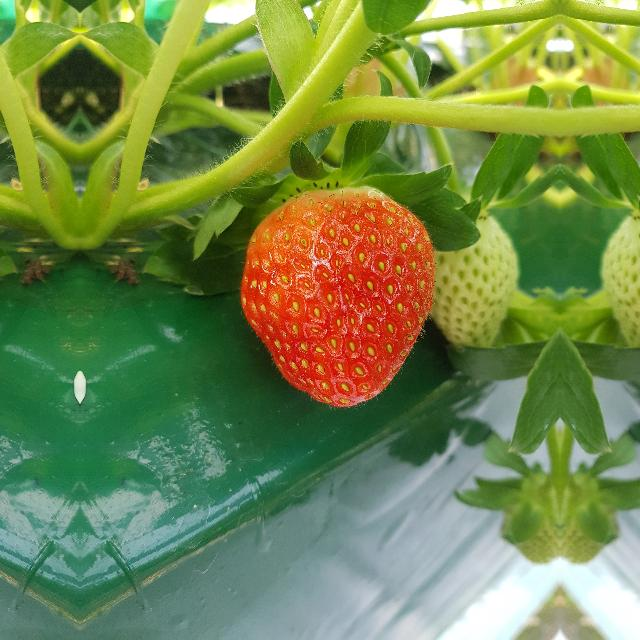Health_100: (239, 185, 437, 408)
Health_25: (430, 200, 520, 354), (599, 200, 640, 354)
